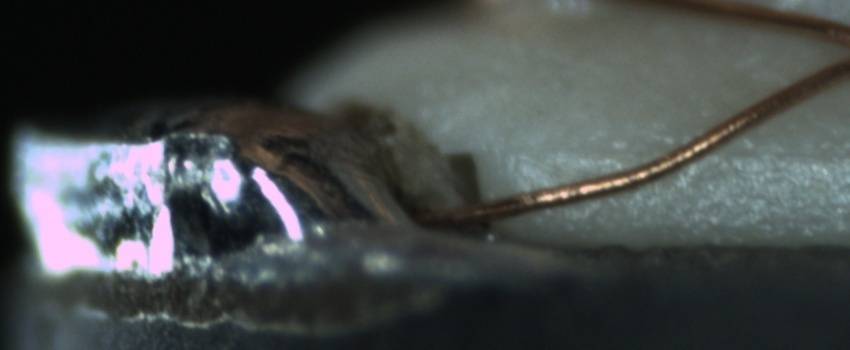DL: (519, 122, 850, 181)
